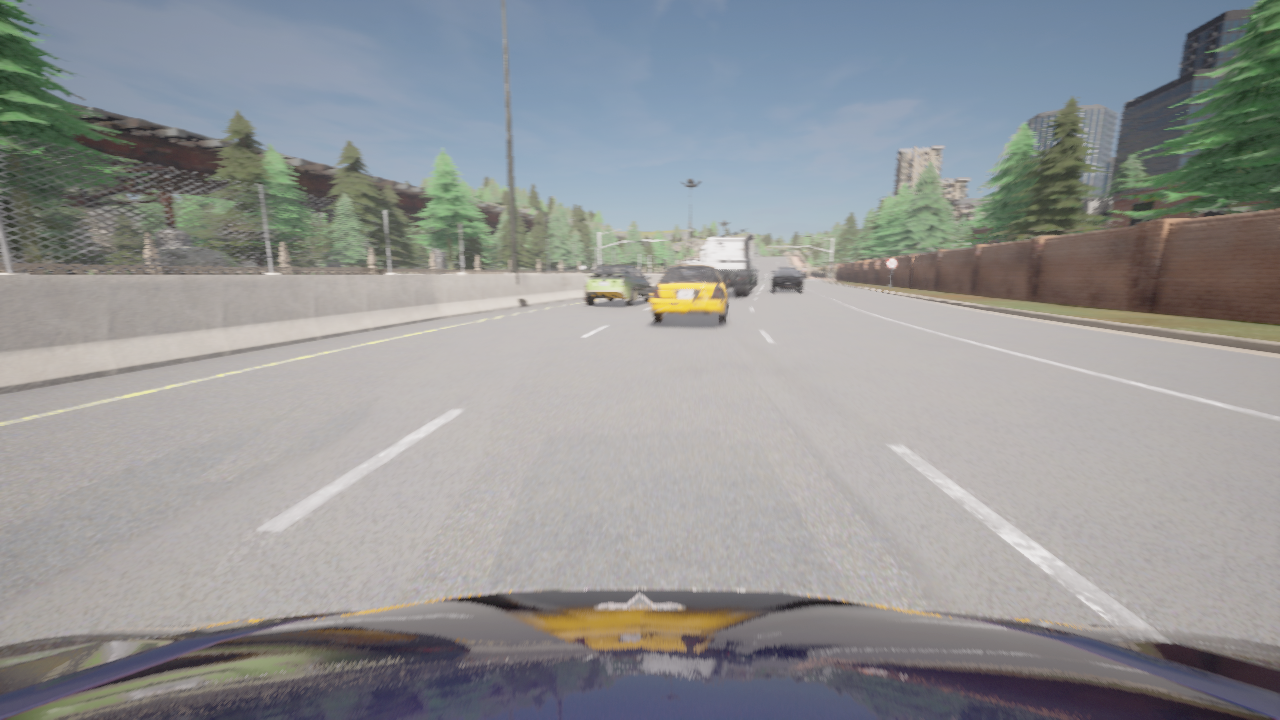cyclist: (0, 588, 1279, 719), (650, 259, 730, 323), (704, 234, 758, 297), (585, 265, 651, 306), (771, 267, 802, 292), (753, 266, 757, 285), (702, 250, 706, 262)
